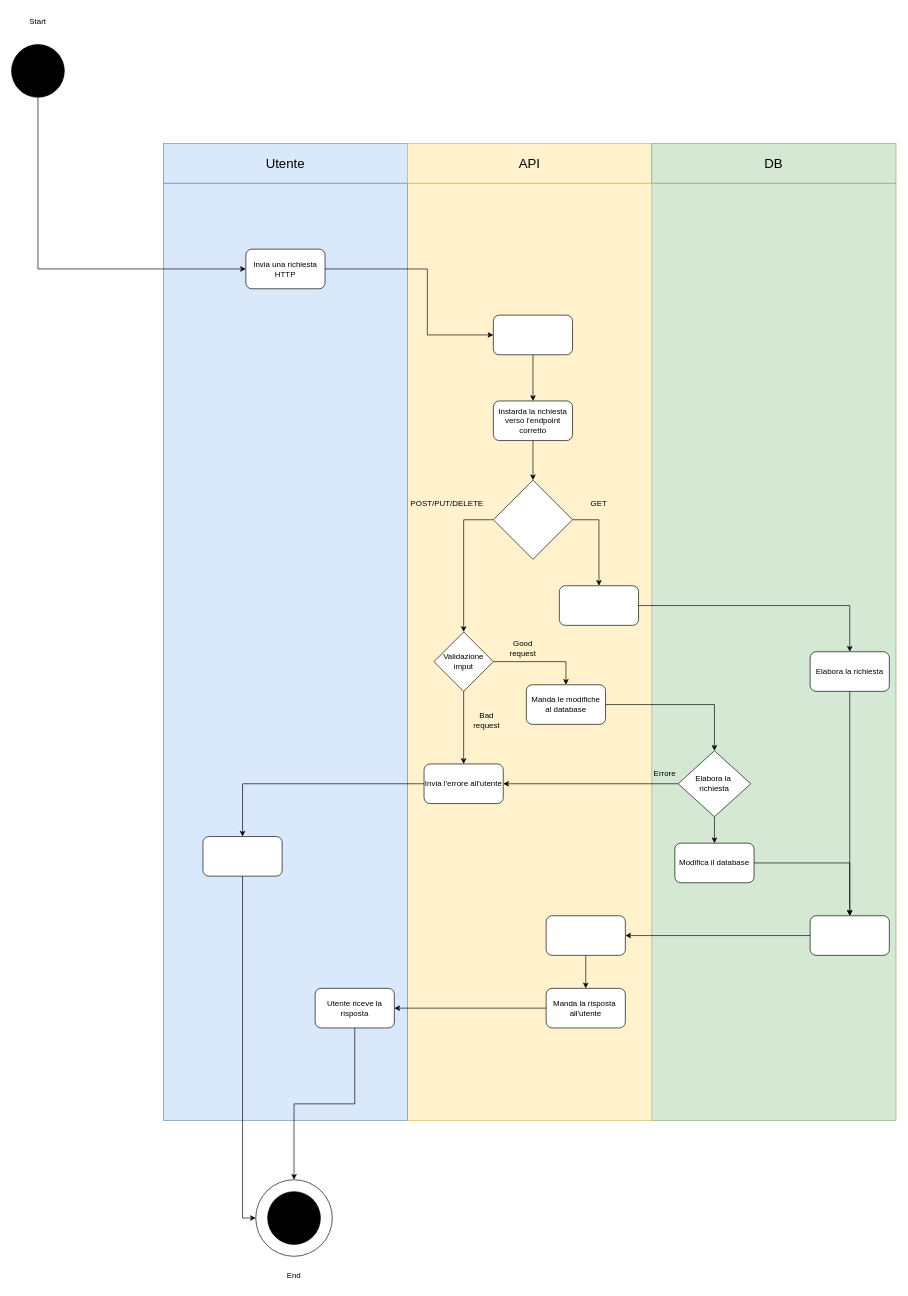
Some shapes in this 908 by 1296 pixel diagram are drawn without their labels. The centre of each missing label's shape, as x and y in pixels:
Differezazzione tipo di richiesta: the point at 533,519
Elabora risposta (JSON): the point at 585,935
Invia il risultato all'API: the point at 849,935
Manda la richiesta al database: the point at 599,605
Riceve richiesta HTTP dell'utente: the point at 533,334
Utente riceve errore e status code: the point at 242,856
